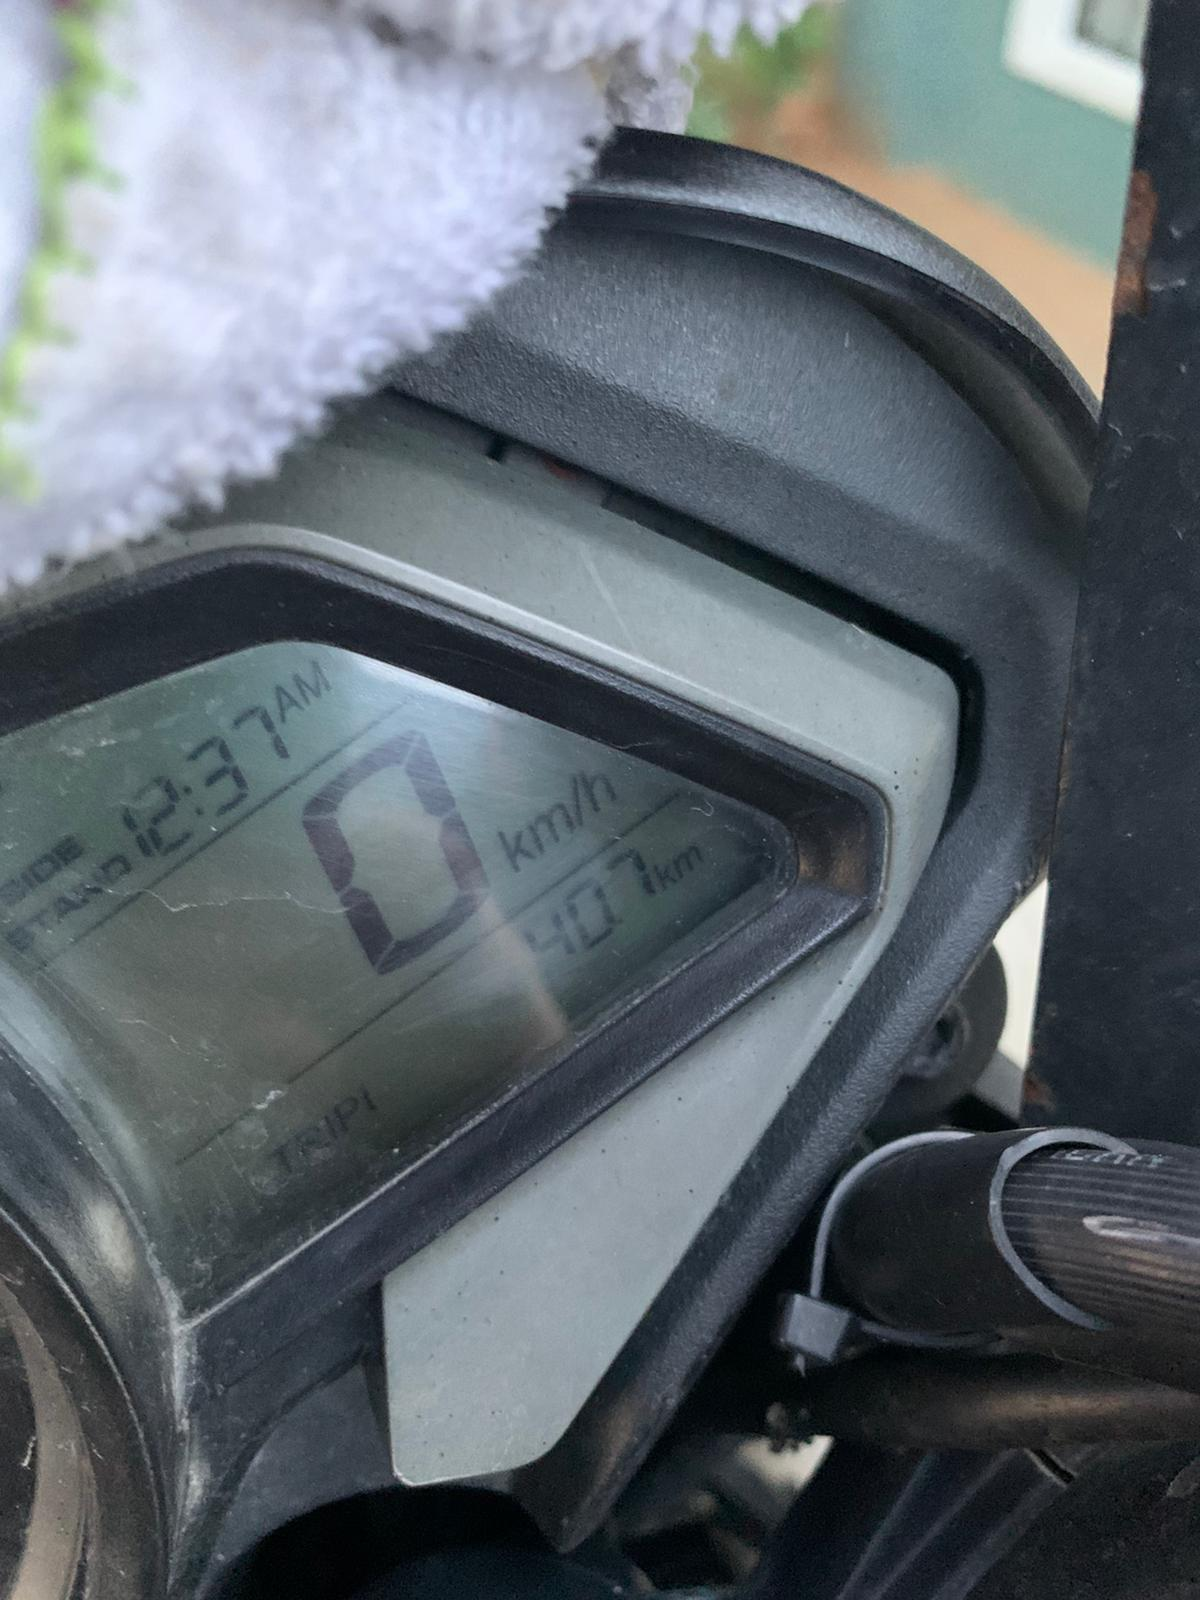,: (616, 913, 626, 930)
0: (297, 728, 492, 976), (563, 877, 616, 947)
1: (120, 801, 155, 860), (358, 1083, 384, 1117)
2: (130, 770, 193, 854)
3: (187, 733, 250, 816)
4: (521, 913, 579, 965)
7: (231, 703, 291, 763), (603, 848, 655, 905)
X: (526, 810, 577, 852), (292, 663, 334, 706), (495, 828, 536, 872), (580, 767, 616, 810), (272, 682, 306, 724), (294, 1123, 330, 1162), (261, 1136, 295, 1178), (332, 1095, 361, 1135), (672, 845, 707, 878), (568, 771, 589, 828), (29, 852, 63, 884), (72, 874, 105, 902), (180, 782, 204, 820), (50, 837, 82, 864), (5, 926, 37, 952), (653, 860, 678, 893), (101, 855, 132, 881), (55, 894, 83, 922), (28, 908, 54, 935), (321, 1112, 342, 1144), (3, 879, 24, 907), (16, 866, 37, 894)
odometer: (3, 624, 866, 1313)
